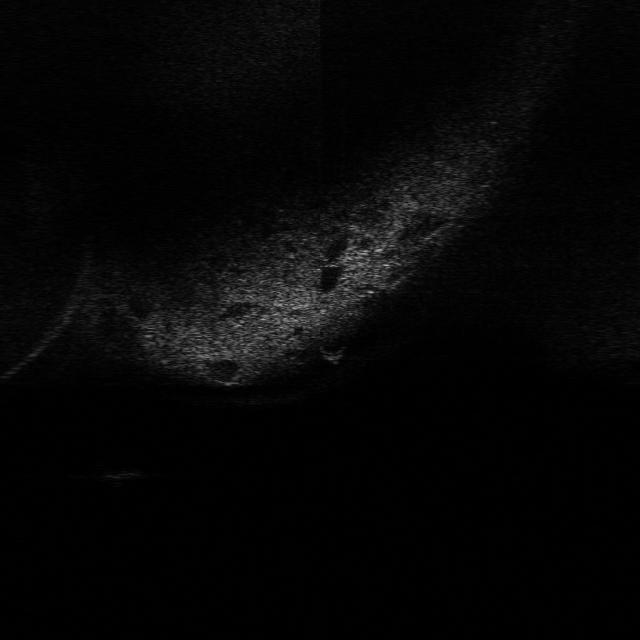ball: (314, 326, 356, 366)
cube: (92, 460, 144, 488)
